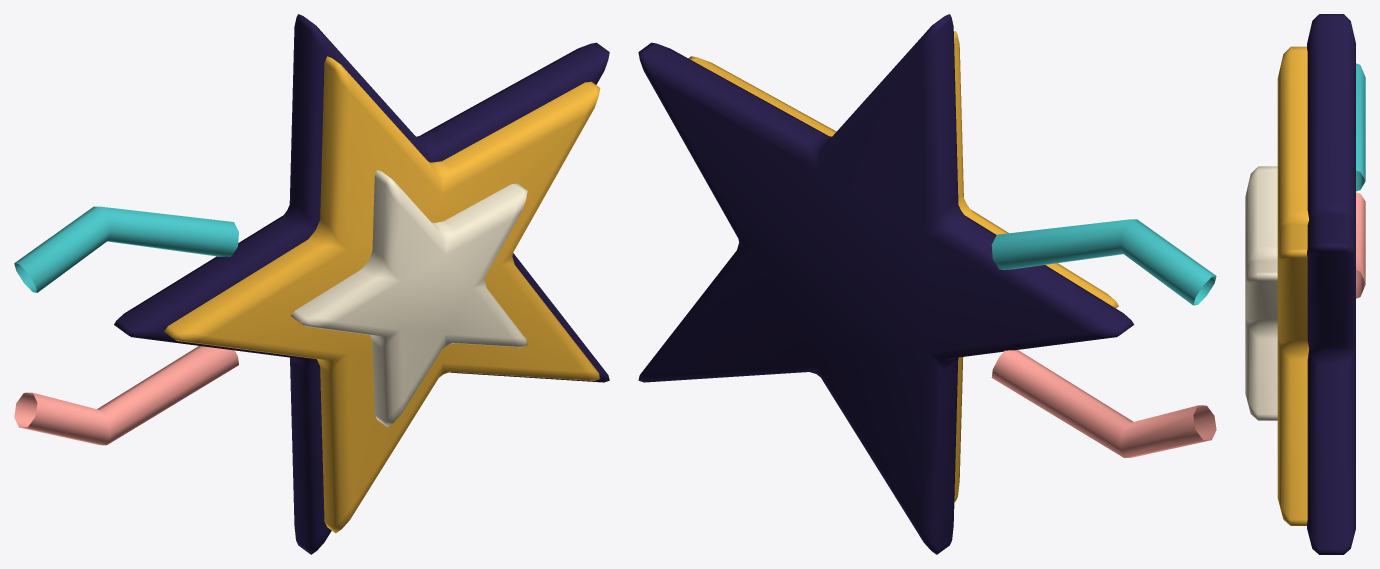
The model's file is r040_stars_dream_star_star.glb.
The picture shows the model from 3 angles, left to right: view 1: azimuth 30°, elevation 25°; view 2: azimuth 150°, elevation 25°; view 3: azimuth 270°, elevation 25°; orthographic projection. The views are drawn at different scales.
Visible parts, largest first — view 1: r040_stars_dream_star_star.001; view 2: r040_stars_dream_star_star.001; view 3: r040_stars_dream_star_star.001.
Boxes of the visible parts, left/top/right/bottom form: r040_stars_dream_star_star.001: left=14, top=14, right=609, bottom=554; r040_stars_dream_star_star.001: left=638, top=14, right=1216, bottom=554; r040_stars_dream_star_star.001: left=1245, top=14, right=1365, bottom=554.
Size of the model in its own units: 3.83 by 3.38 by 0.74.
